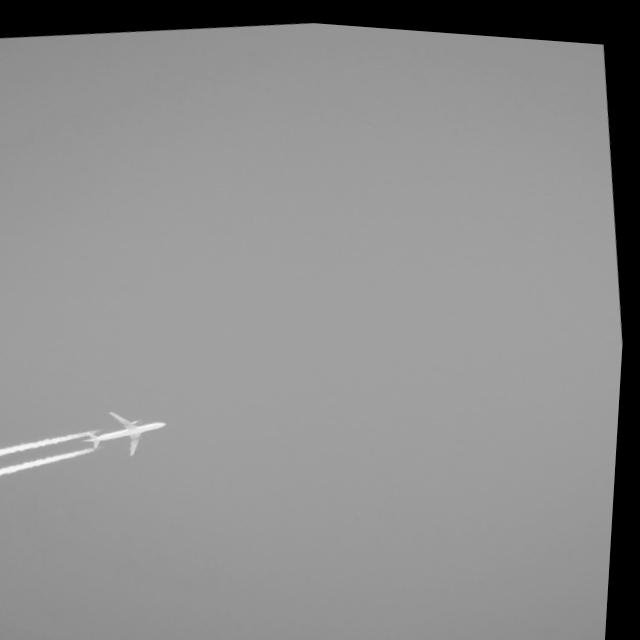aeroplane: (86, 397, 177, 459)
